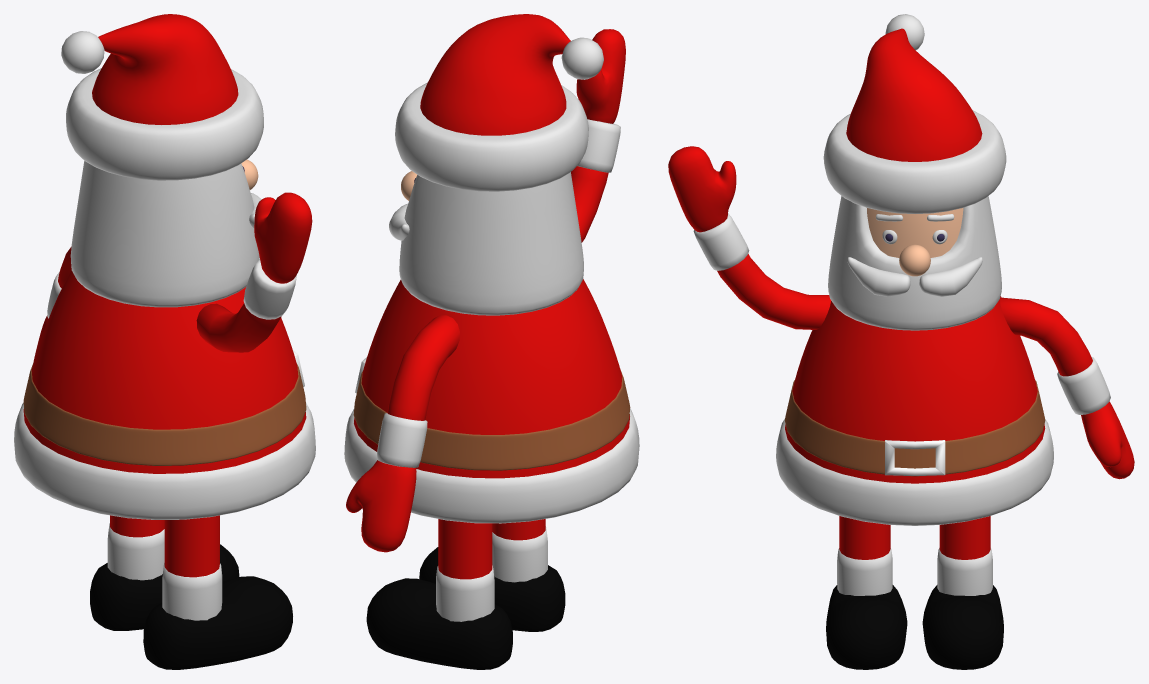
The model's file is santa.glb.
3 views of the same model, side by side, from view 1: azimuth 30°, elevation 25°; view 2: azimuth 150°, elevation 25°; view 3: azimuth 270°, elevation 25° (orthographic). The views are drawn at different scales.
Parts seen in each view (by area): view 1: whitePart, colorPart, shoes, belt; view 2: colorPart, whitePart, shoes, belt; view 3: colorPart, whitePart, shoes, belt, face, beltChain, nose.
Part boxes in pixels (x1,y1,x2,y2): whitePart: (14,31,315,620); colorPart: (23,14,312,577); shoes: (90,544,292,669); belt: (23,362,306,465); colorPart: (346,14,629,579); whitePart: (344,37,639,621); shoes: (366,547,565,669); belt: (353,369,630,470); colorPart: (668,28,1134,559); whitePart: (693,14,1110,595); shoes: (826,585,1003,669); belt: (785,380,1045,476); face: (867,208,963,257); beltChain: (885,440,945,475); nose: (899,244,930,276).
Size of the model in its own units: 1.92 by 4.41 by 3.22.
